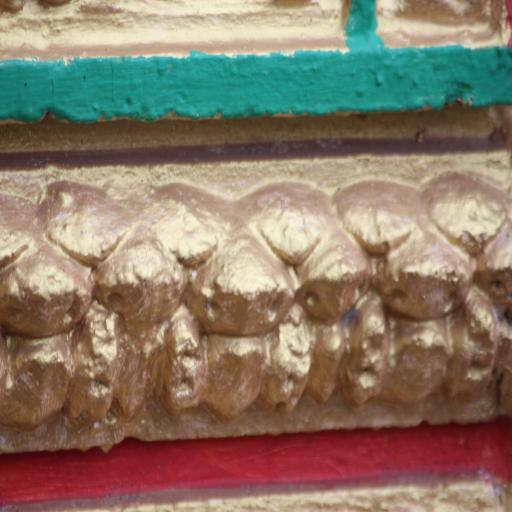la: (77, 229, 198, 423), (381, 217, 495, 410), (192, 228, 302, 414), (296, 216, 382, 412), (0, 226, 77, 438)
